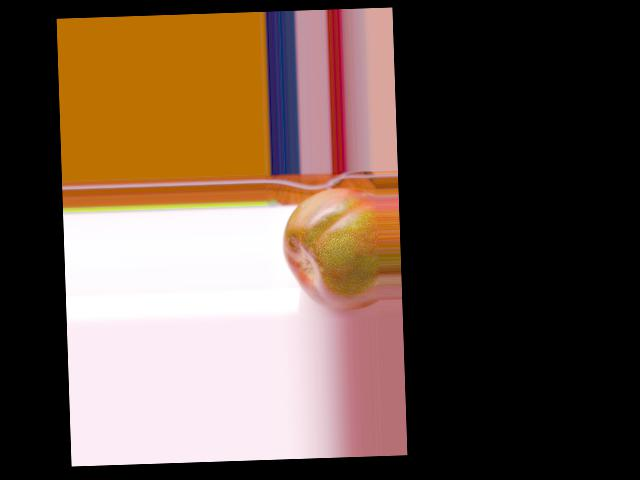tomato: (281, 186, 380, 311)
